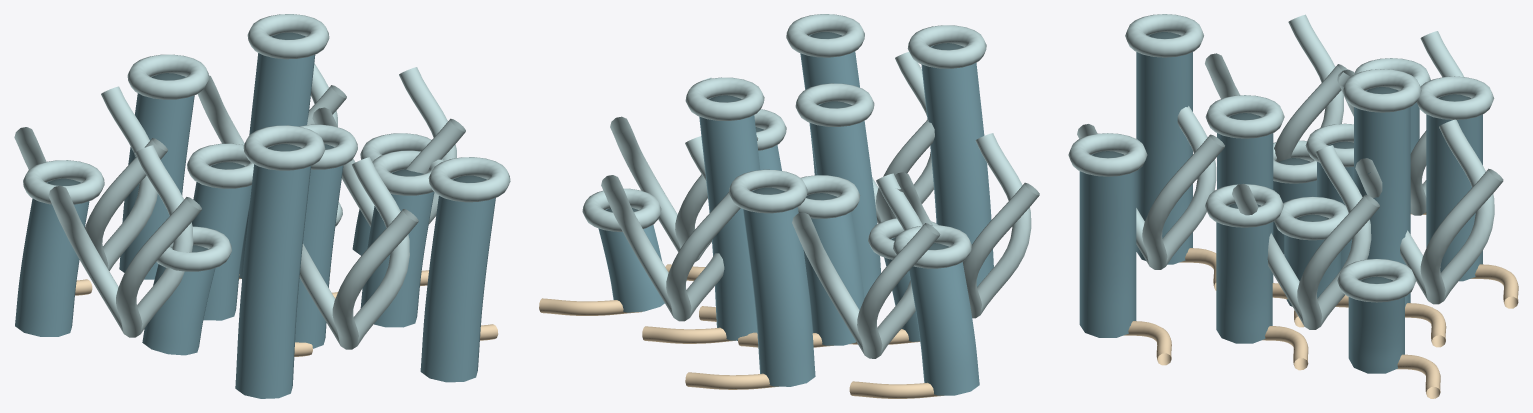
File: bio_thermal_colony_09_near.glb
3 renders of one model, left to right at view 1: azimuth 30°, elevation 25°; view 2: azimuth 150°, elevation 25°; view 3: azimuth 270°, elevation 25°, orthographic. The views are drawn at different scales.
Visible parts, largest first — view 1: Chimney biofilm.007, Chimney biofilm.010, Spiral filament.012, Spiral filament.006, Chimney biofilm.009, Spiral filament.003, Chimney biofilm.006, Chimney biofilm.002, Chimney biofilm.001, Chimney biofilm.003, Spiral filament, Chimney biofilm.005 (+13 smaller); view 2: Chimney biofilm.006, Chimney biofilm.007, Chimney biofilm.003, Spiral filament.003, Chimney biofilm.009, Spiral filament.009, Spiral filament.012, Chimney biofilm.002, Chimney biofilm.001, Spiral filament, Chimney biofilm.008, Spiral filament.006 (+17 smaller); view 3: Chimney biofilm.010, Chimney biofilm.007, Spiral filament.009, Spiral filament, Chimney biofilm.003, Chimney biofilm.005, Spiral filament.006, Spiral filament.012, Chimney biofilm.006, Chimney biofilm.008, Chimney biofilm.002, Open vent rim.002 (+21 smaller).
Part boxes in pixels (box(x1,y1,x2,y2)): Chimney biofilm.007: box(235, 146, 311, 398); Chimney biofilm.010: box(420, 178, 495, 382); Spiral filament.012: box(48, 145, 201, 337); Spiral filament.006: box(299, 157, 418, 349); Chimney biofilm.009: box(15, 181, 89, 336); Spiral filament.003: box(14, 86, 167, 270); Chimney biofilm.006: box(119, 75, 194, 279); Chimney biofilm.002: box(295, 146, 343, 348); Chimney biofilm.001: box(191, 164, 251, 320); Chimney biofilm.003: box(239, 35, 315, 278); Spiral filament: box(312, 67, 465, 226); Chimney biofilm.005: box(360, 171, 434, 327); Chimney biofilm.006: box(743, 190, 815, 386); Chimney biofilm.007: box(921, 45, 993, 286); Chimney biofilm.003: box(699, 97, 760, 340); Spiral filament.003: box(792, 173, 940, 358); Chimney biofilm.009: box(909, 245, 979, 395); Spiral filament.009: box(601, 136, 740, 321); Spiral filament.012: box(895, 133, 1039, 318); Chimney biofilm.002: box(809, 104, 880, 297); Chimney biofilm.001: box(803, 195, 864, 345); Spiral filament: box(610, 77, 758, 261); Chimney biofilm.008: box(598, 209, 664, 312); Spiral filament.006: box(872, 51, 934, 223); Chimney biofilm.010: box(1079, 154, 1136, 337); Chimney biofilm.007: box(1136, 34, 1192, 264); Spiral filament.009: box(1355, 119, 1503, 304); Spiral filament: box(1232, 145, 1379, 329); Chimney biofilm.003: box(1354, 89, 1410, 306); Chimney biofilm.005: box(1216, 204, 1272, 343); Spiral filament.006: box(1077, 106, 1224, 269); Spiral filament.012: box(1205, 14, 1350, 161); Chimney biofilm.006: box(1426, 97, 1482, 281); Chimney biofilm.008: box(1348, 279, 1404, 373); Chimney biofilm.002: box(1217, 116, 1273, 282); Open vent rim.002: box(1205, 95, 1284, 138).
Bounding box in the file's own units: 1.75 × 0.9495 × 1.59.
